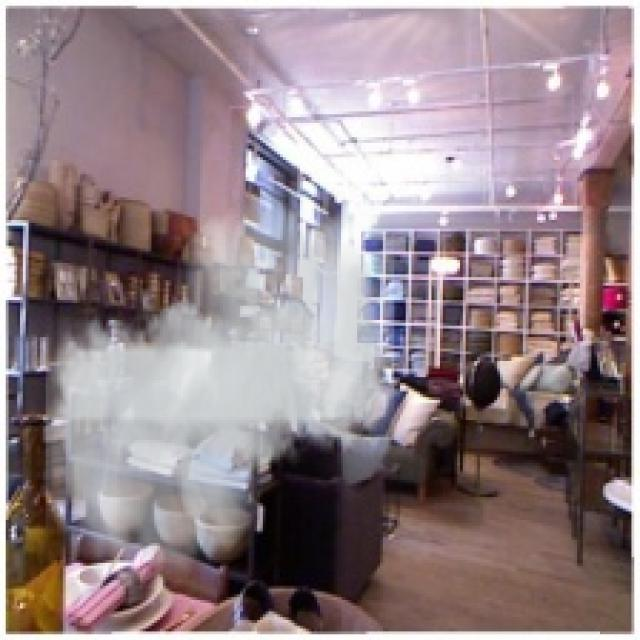smoke: (46, 180, 394, 589)
